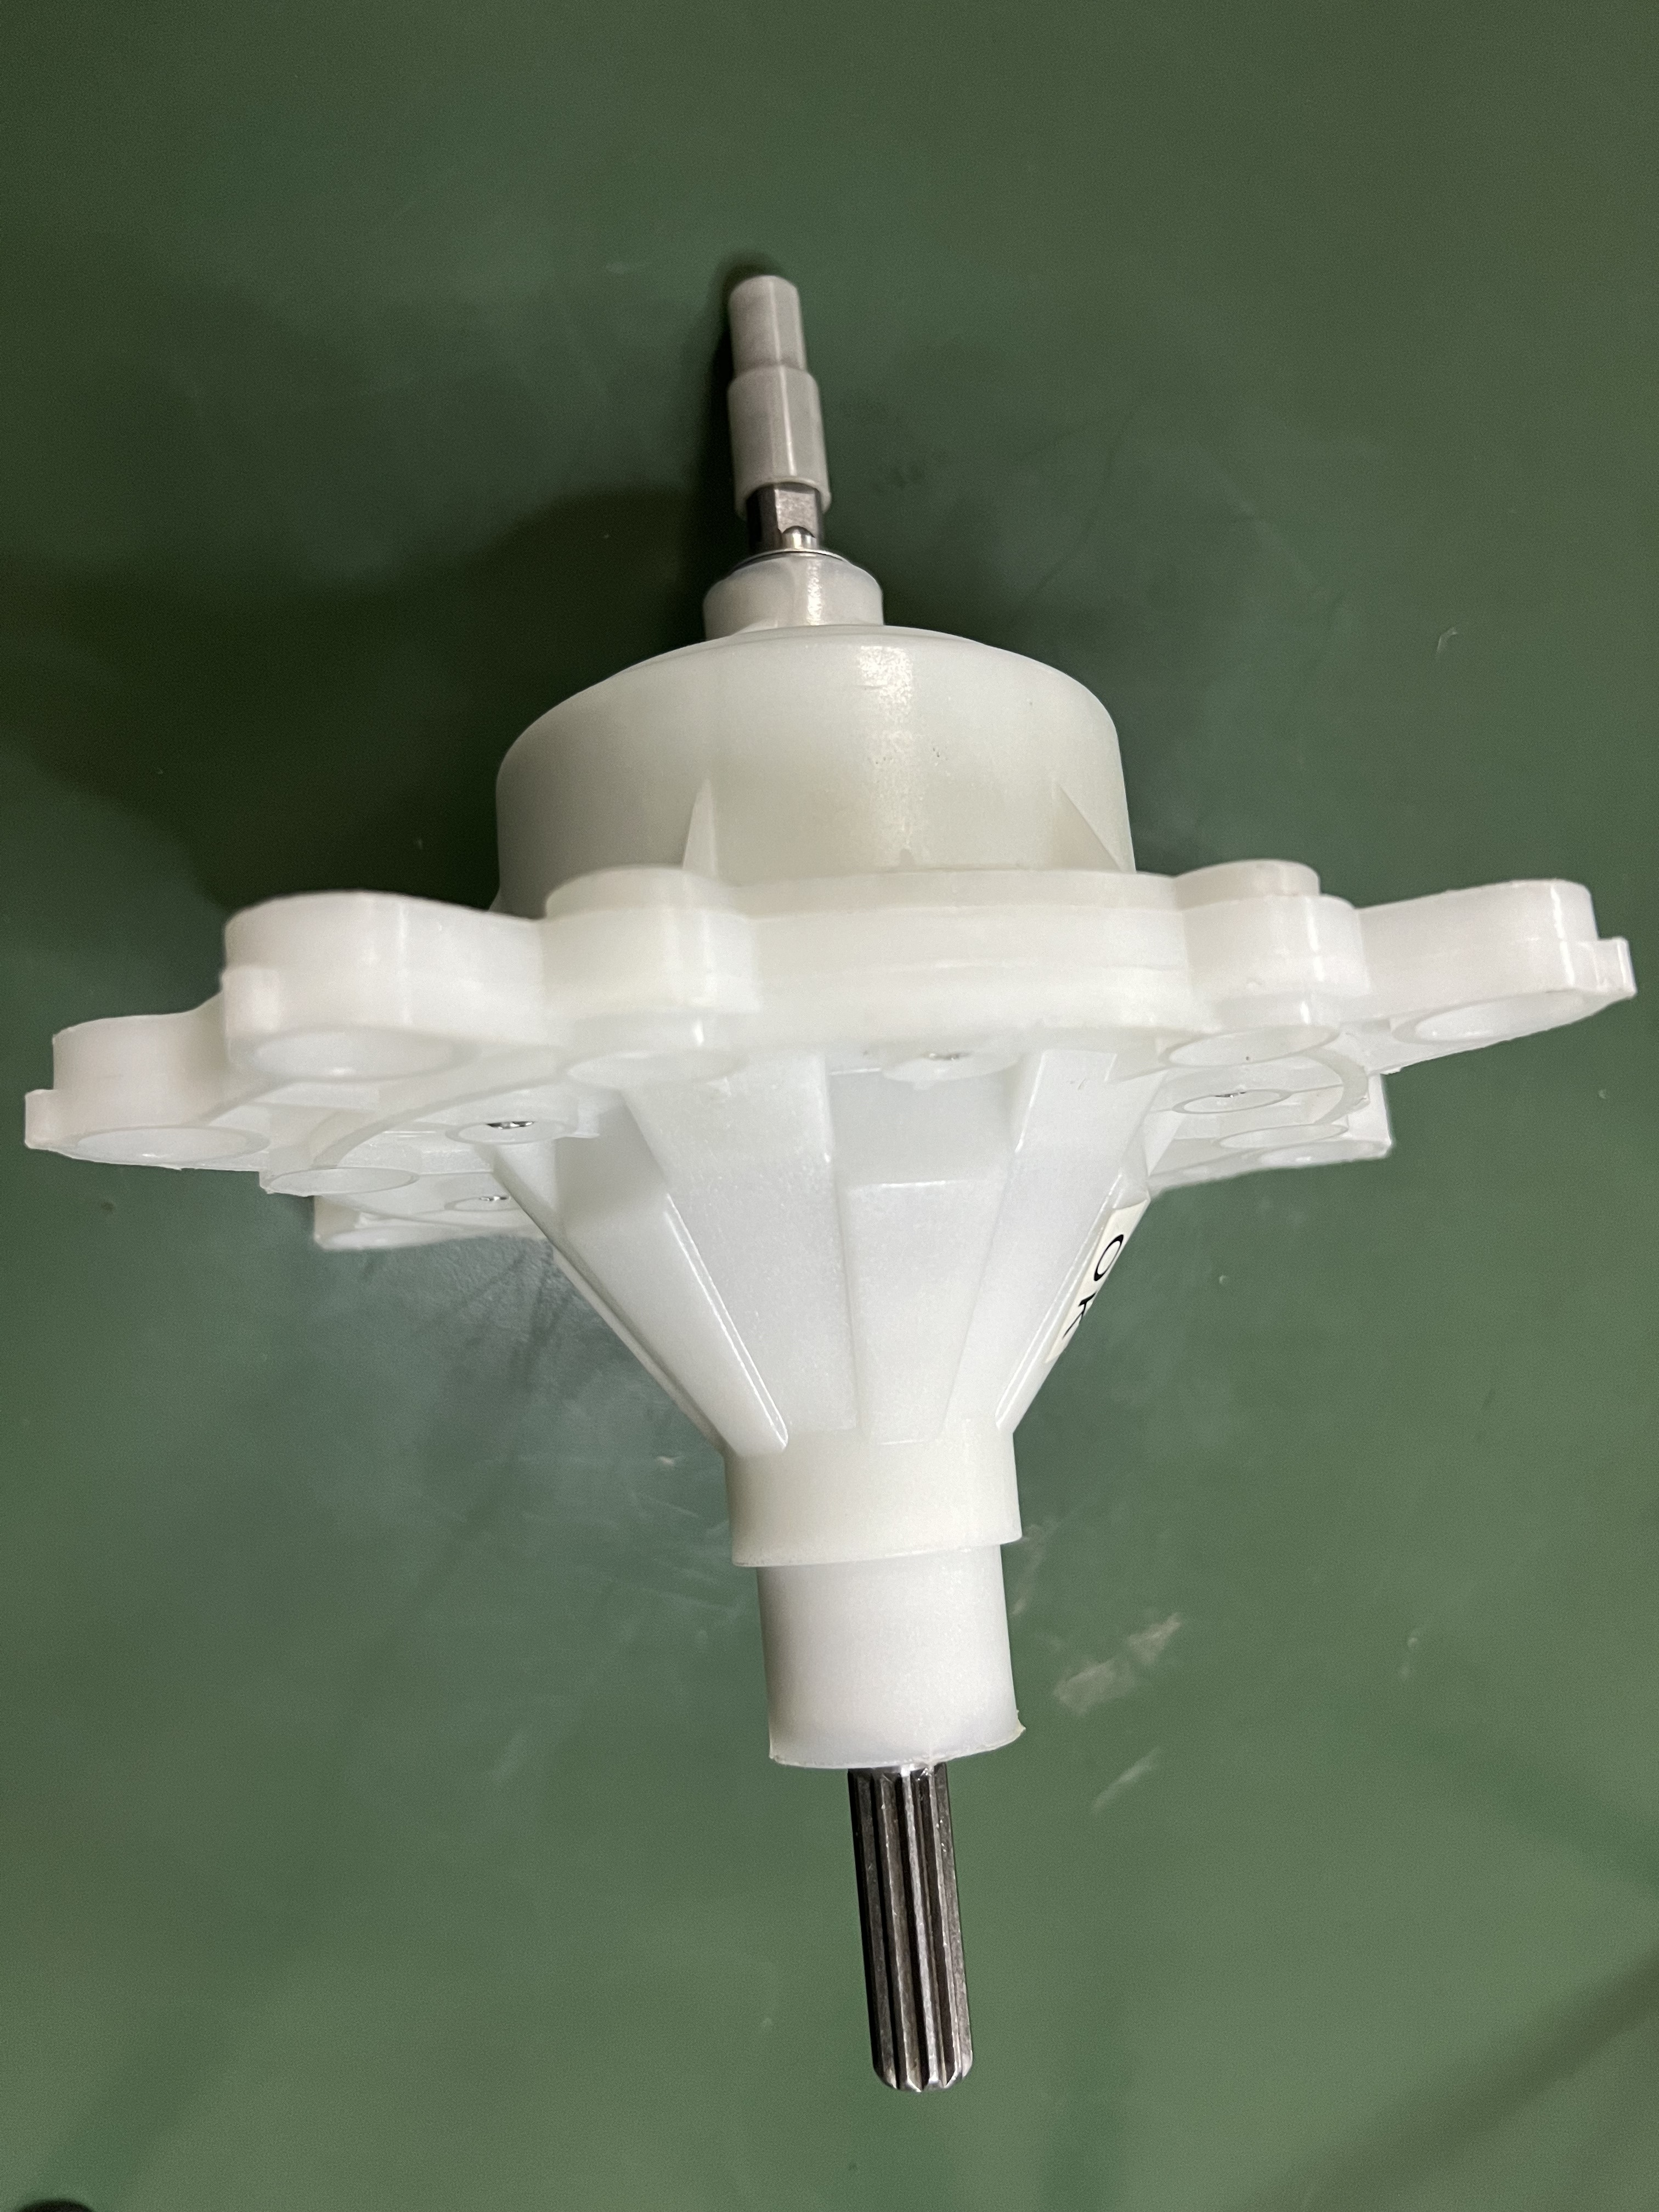gear_box_design: (61, 247, 1605, 2087)
